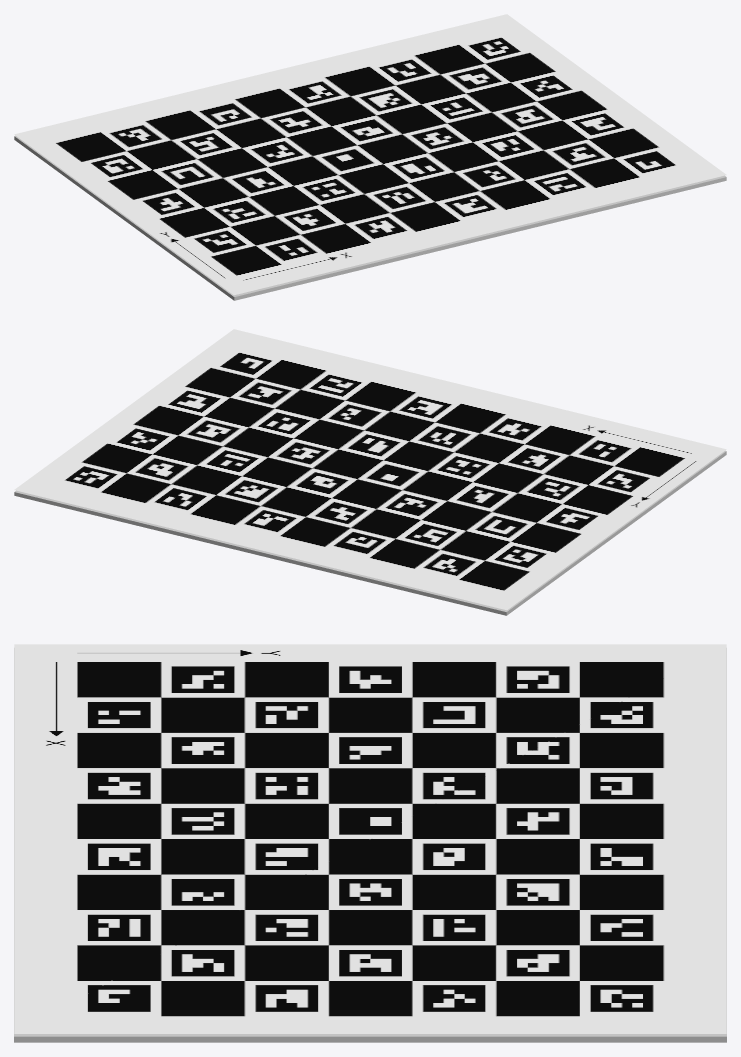
File: charuco_target.dae
3 renders of one model, top to bottom at view 1: azimuth 30°, elevation 25°; view 2: azimuth 150°, elevation 25°; view 3: azimuth 270°, elevation 25°, orthographic. The views are drawn at different scales.
Visible parts, largest first — view 1: charuco_calibration_target, Cube; view 2: charuco_calibration_target, Cube; view 3: charuco_calibration_target, Cube.
Part boxes in pixels (x1,y1,x2,y2): charuco_calibration_target: (14, 14, 726, 295); Cube: (14, 135, 726, 300); charuco_calibration_target: (14, 329, 726, 610); Cube: (14, 450, 726, 615); charuco_calibration_target: (14, 644, 726, 1033); Cube: (14, 648, 726, 1042).
Bounding box in the file's own units: 0.2794 × 0.216 × 0.003.
Materials: 2 (1 with a texture image).
